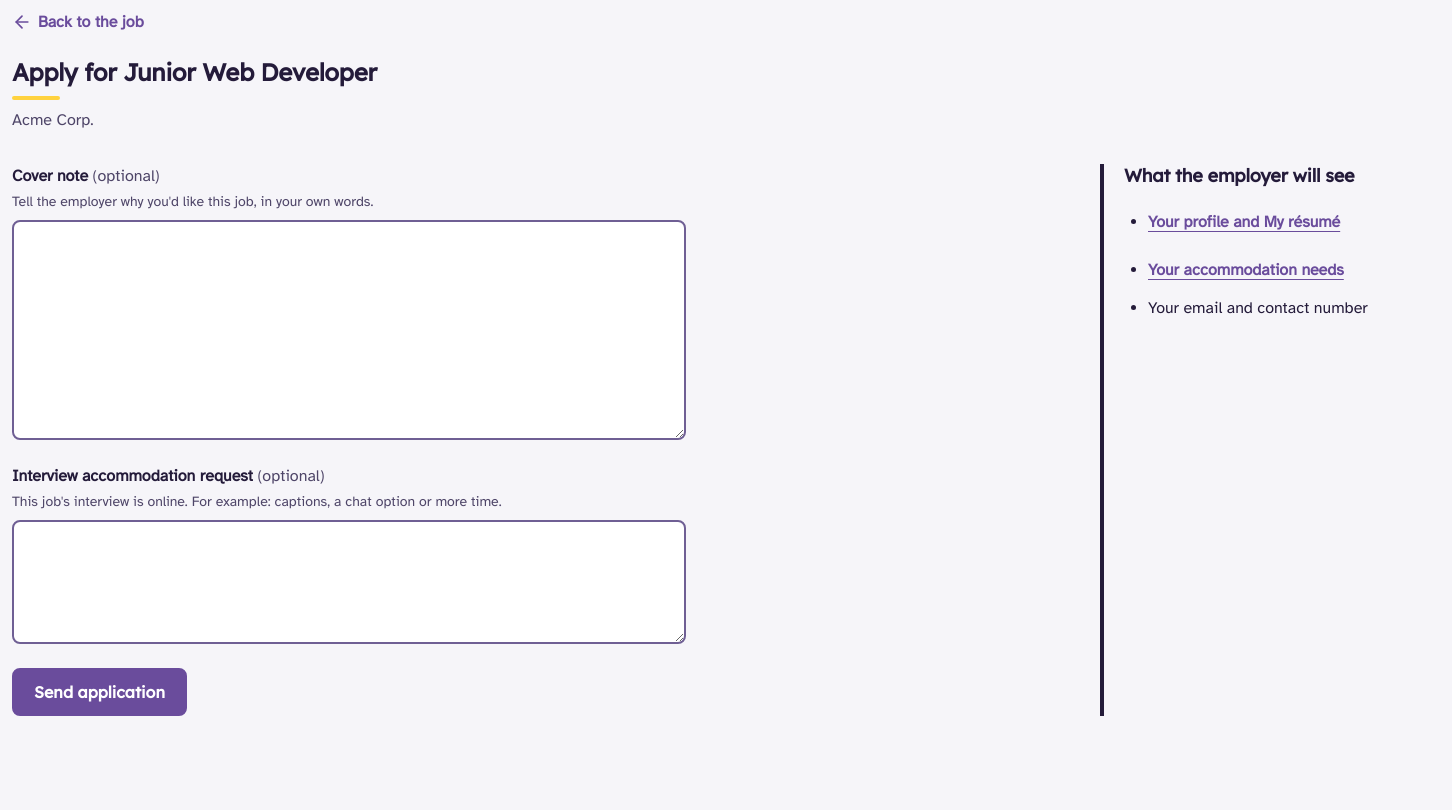
Scenario: ApplyPage › explains an application sent from another tab, keeping the text
Type "I have three years of bookkeeping." into the text box labelled "Cover note (optional)" at coordinates (349, 330), box [12,220,686,440]
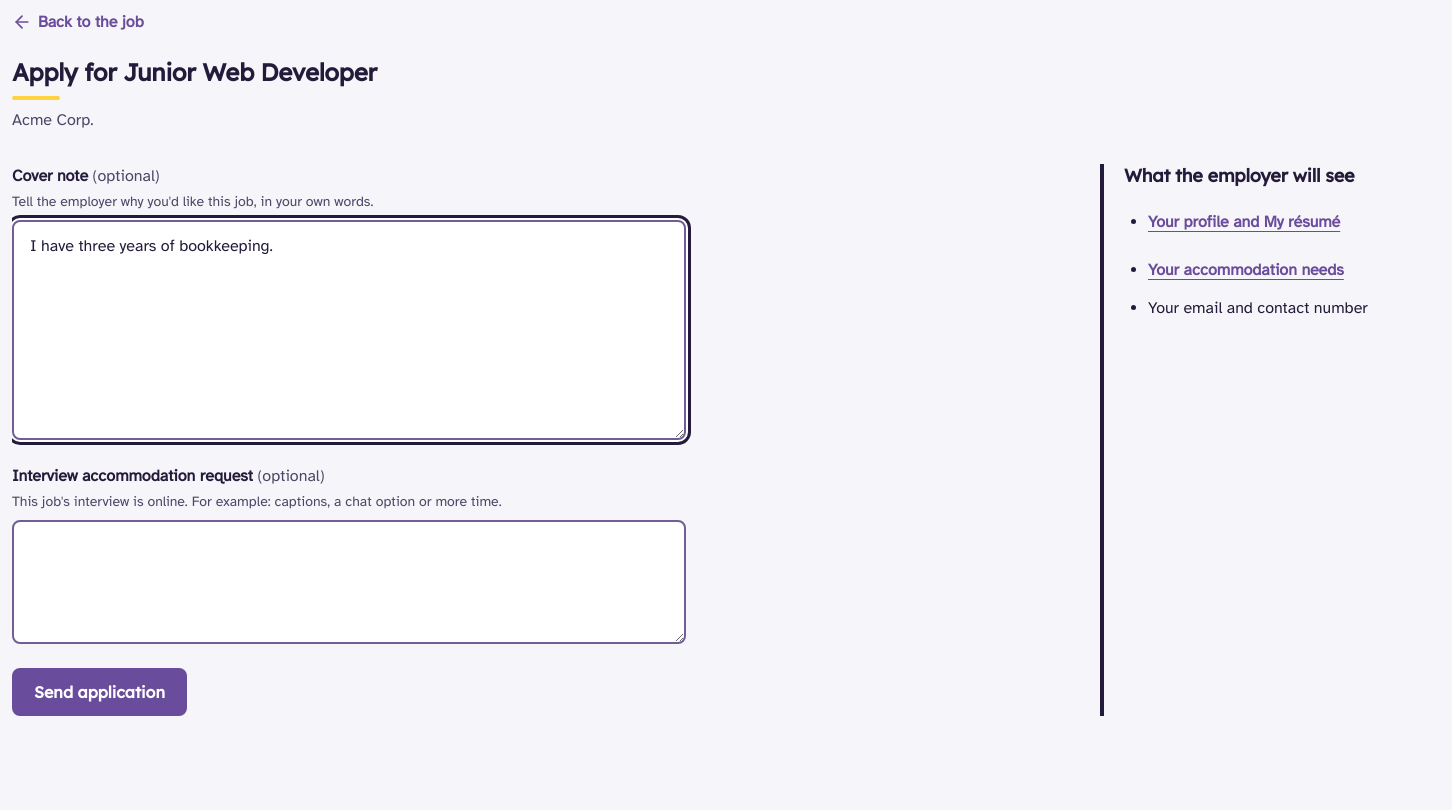
Type "Captions, please." into the text box labelled "Interview accommodation request (optional)" at coordinates (349, 582), box [12,520,686,644]
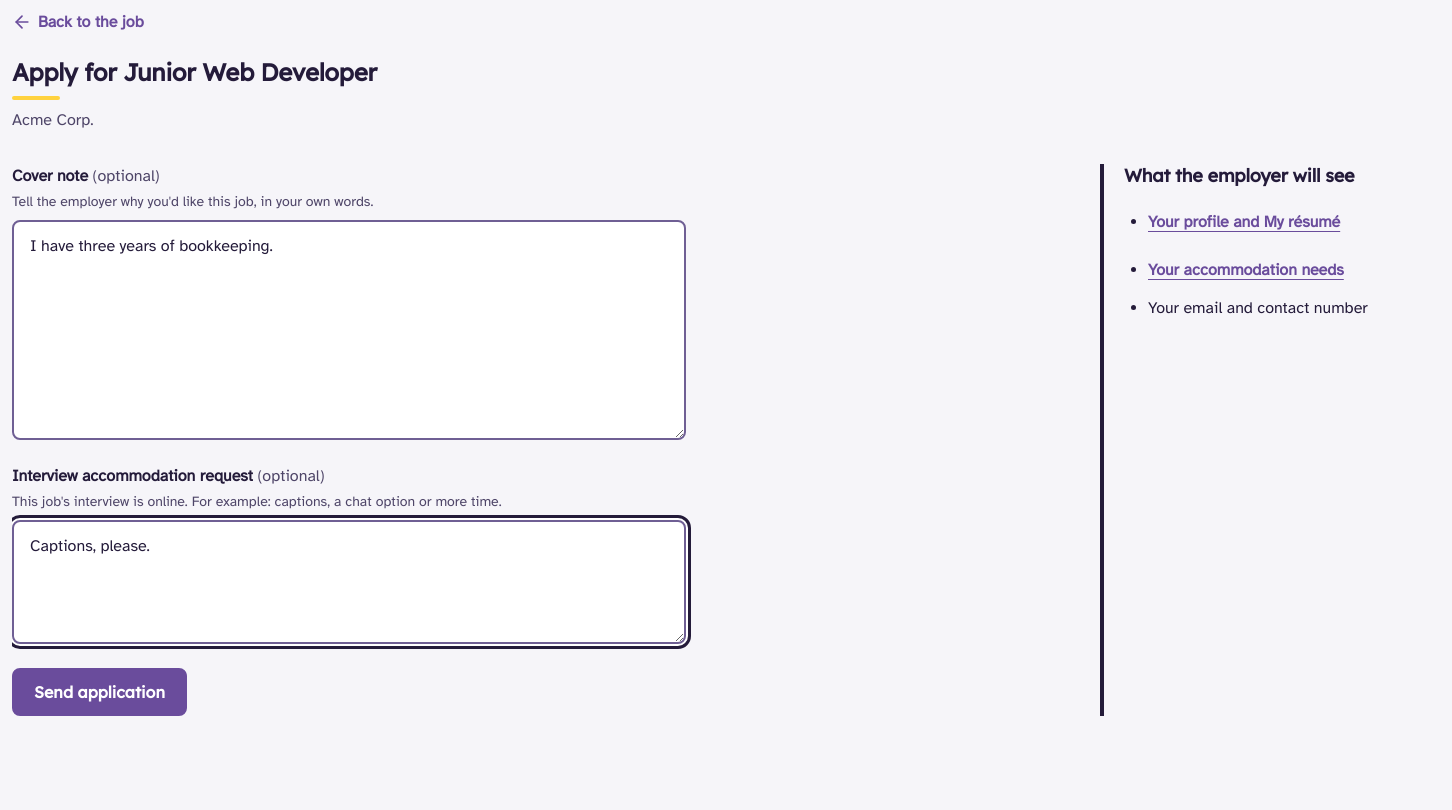
Click the button "Send application" at coordinates (99, 692), box [12,668,187,716]
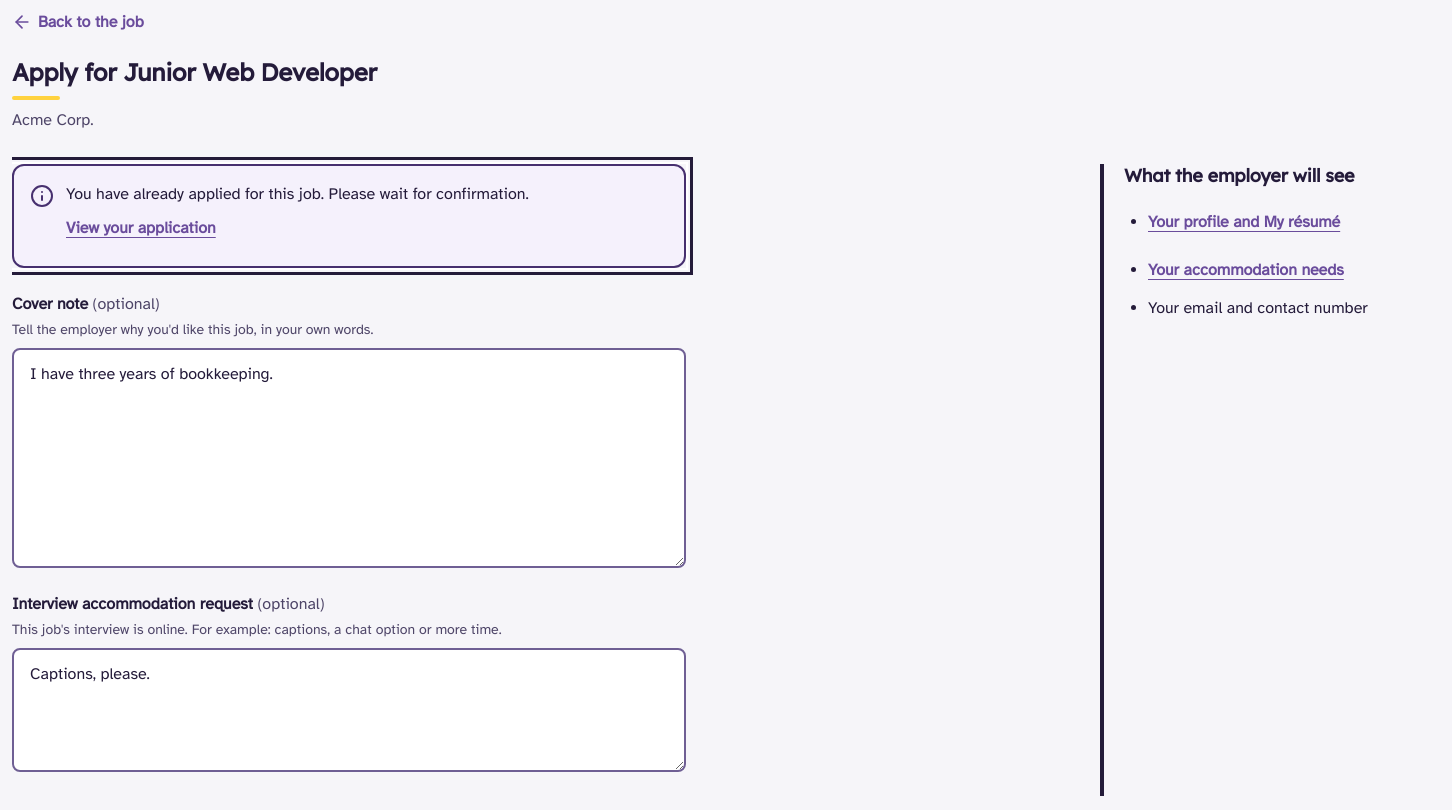
expect the text "You have already applied for this job. Please wait for confirmation." is shown: met, box [66,182,529,206]
expect the button "Send application" is gone: met
